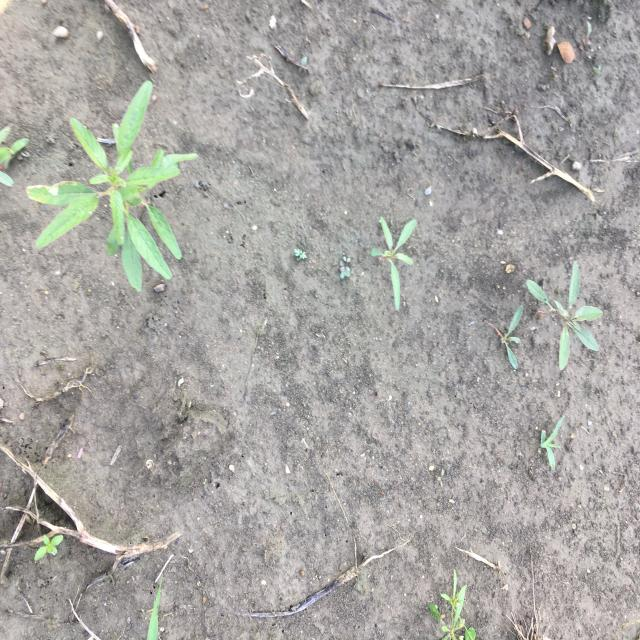Waterhemp: (24, 78, 200, 294), (524, 254, 605, 371), (369, 215, 420, 314)
